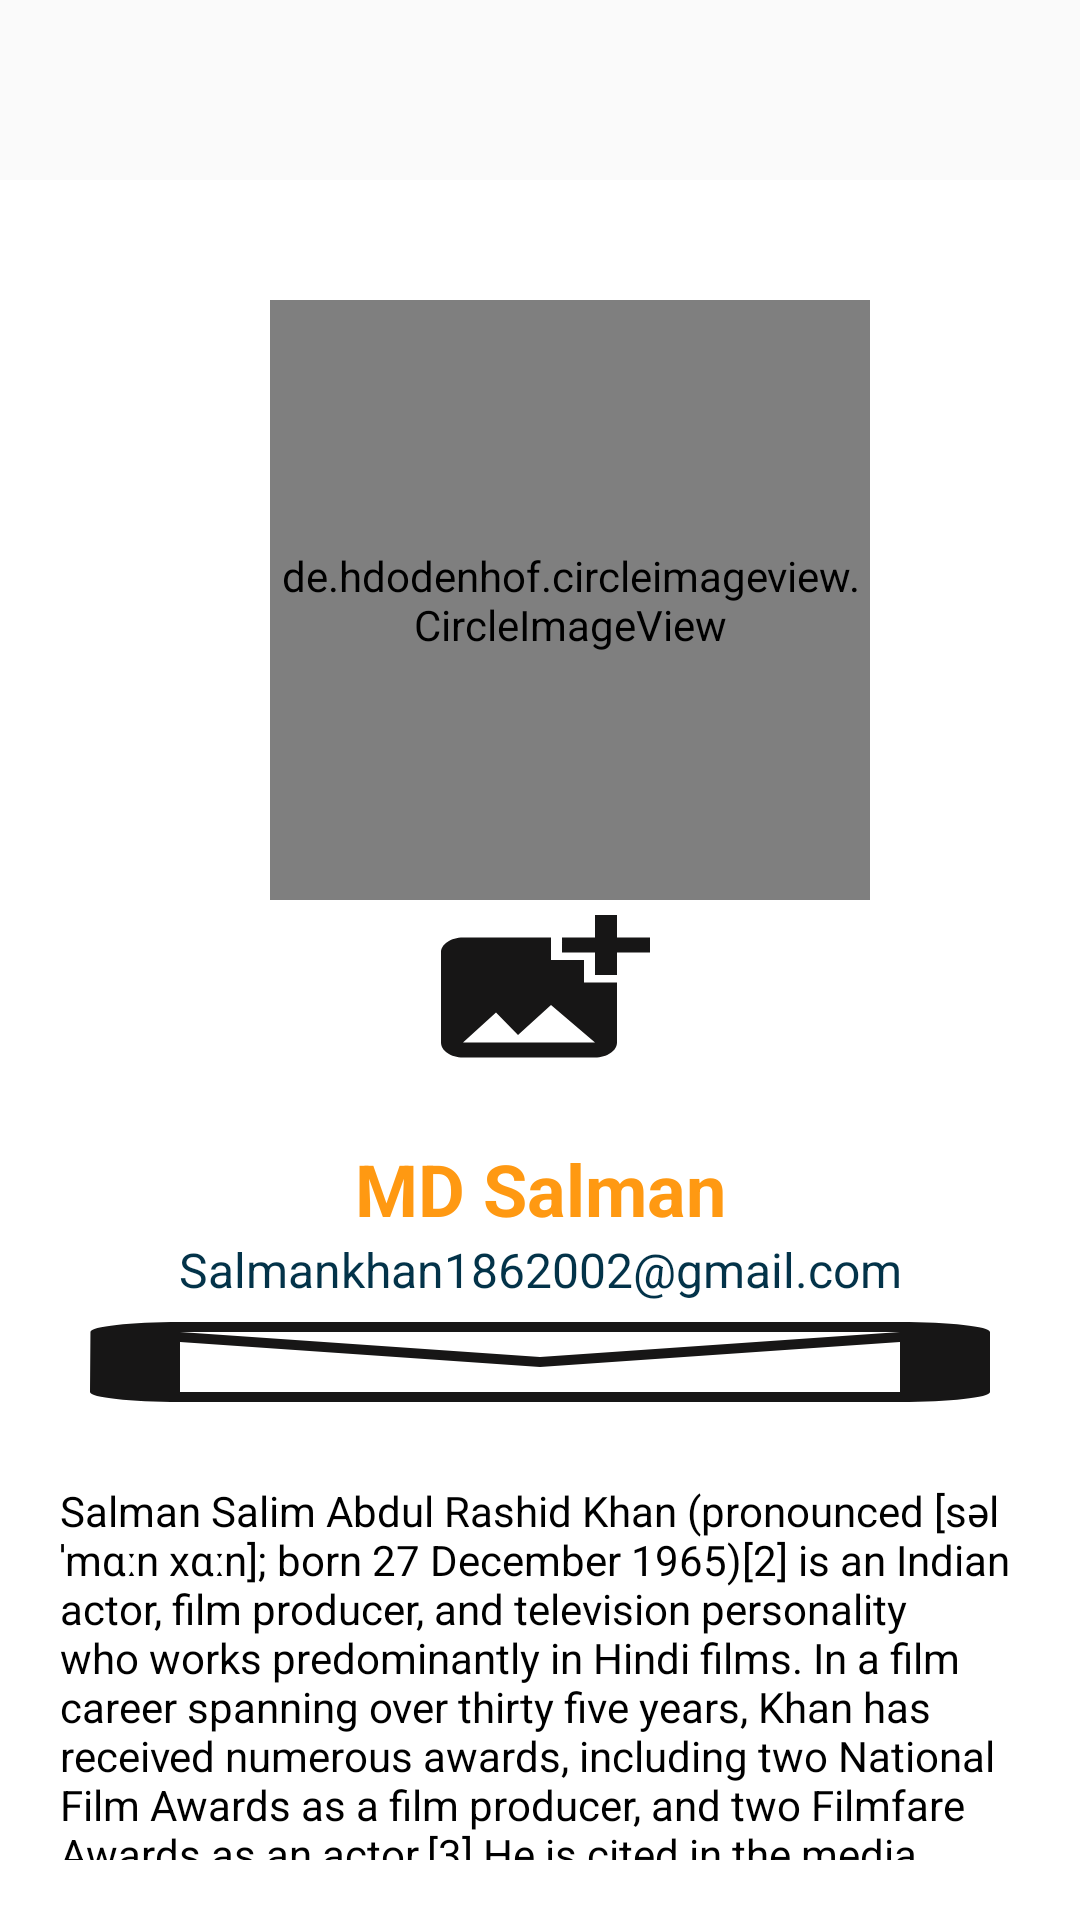

Locate icon controls on the screen. Image size 1080px x 1920px, boxes as region(x1, y1, x2, y2).
add photo alternate: region(441, 915, 650, 1058)
